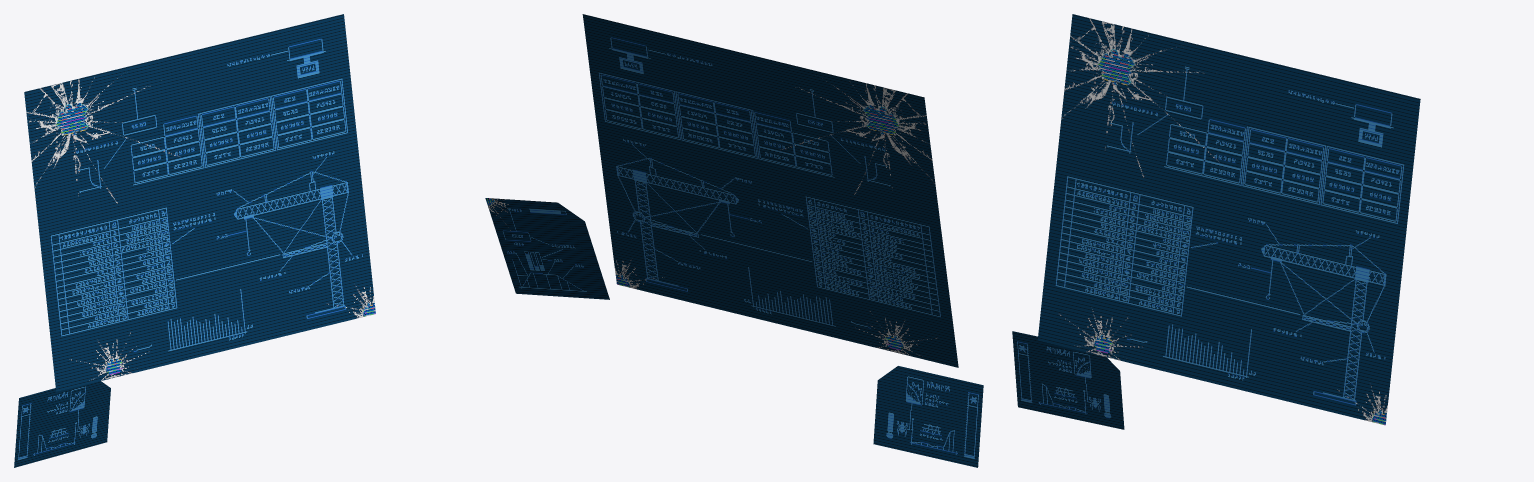
The model's file is Storage Screens.fbx.
The picture shows the model from 3 angles, left to right: view 1: azimuth 30°, elevation 25°; view 2: azimuth 150°, elevation 25°; view 3: azimuth 330°, elevation 25°; orthographic projection. The views are drawn at different scales.
Visible parts, largest first — view 1: Storage_B, Storage_S; view 2: Storage_B, Storage_M, Storage_S; view 3: Storage_B, Storage_S.
Boxes of the visible parts, left/top/right/bottom form: Storage_B: left=24, top=14, right=375, bottom=391; Storage_S: left=14, top=381, right=110, bottom=467; Storage_B: left=582, top=14, right=958, bottom=367; Storage_M: left=485, top=198, right=609, bottom=299; Storage_S: left=873, top=366, right=983, bottom=467; Storage_B: left=1037, top=14, right=1420, bottom=425; Storage_S: left=1012, top=331, right=1124, bottom=429.
Size of the model in its own units: 219 by 164 by 26.87.
